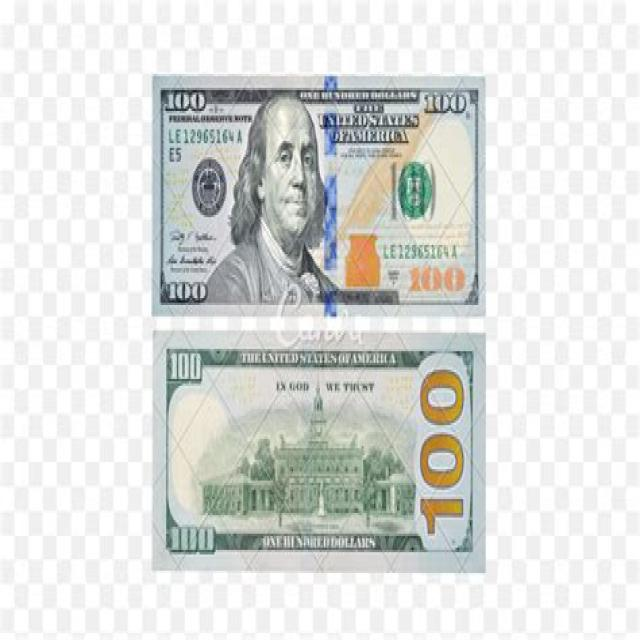Hundred: (151, 73, 486, 320), (152, 332, 486, 573)
